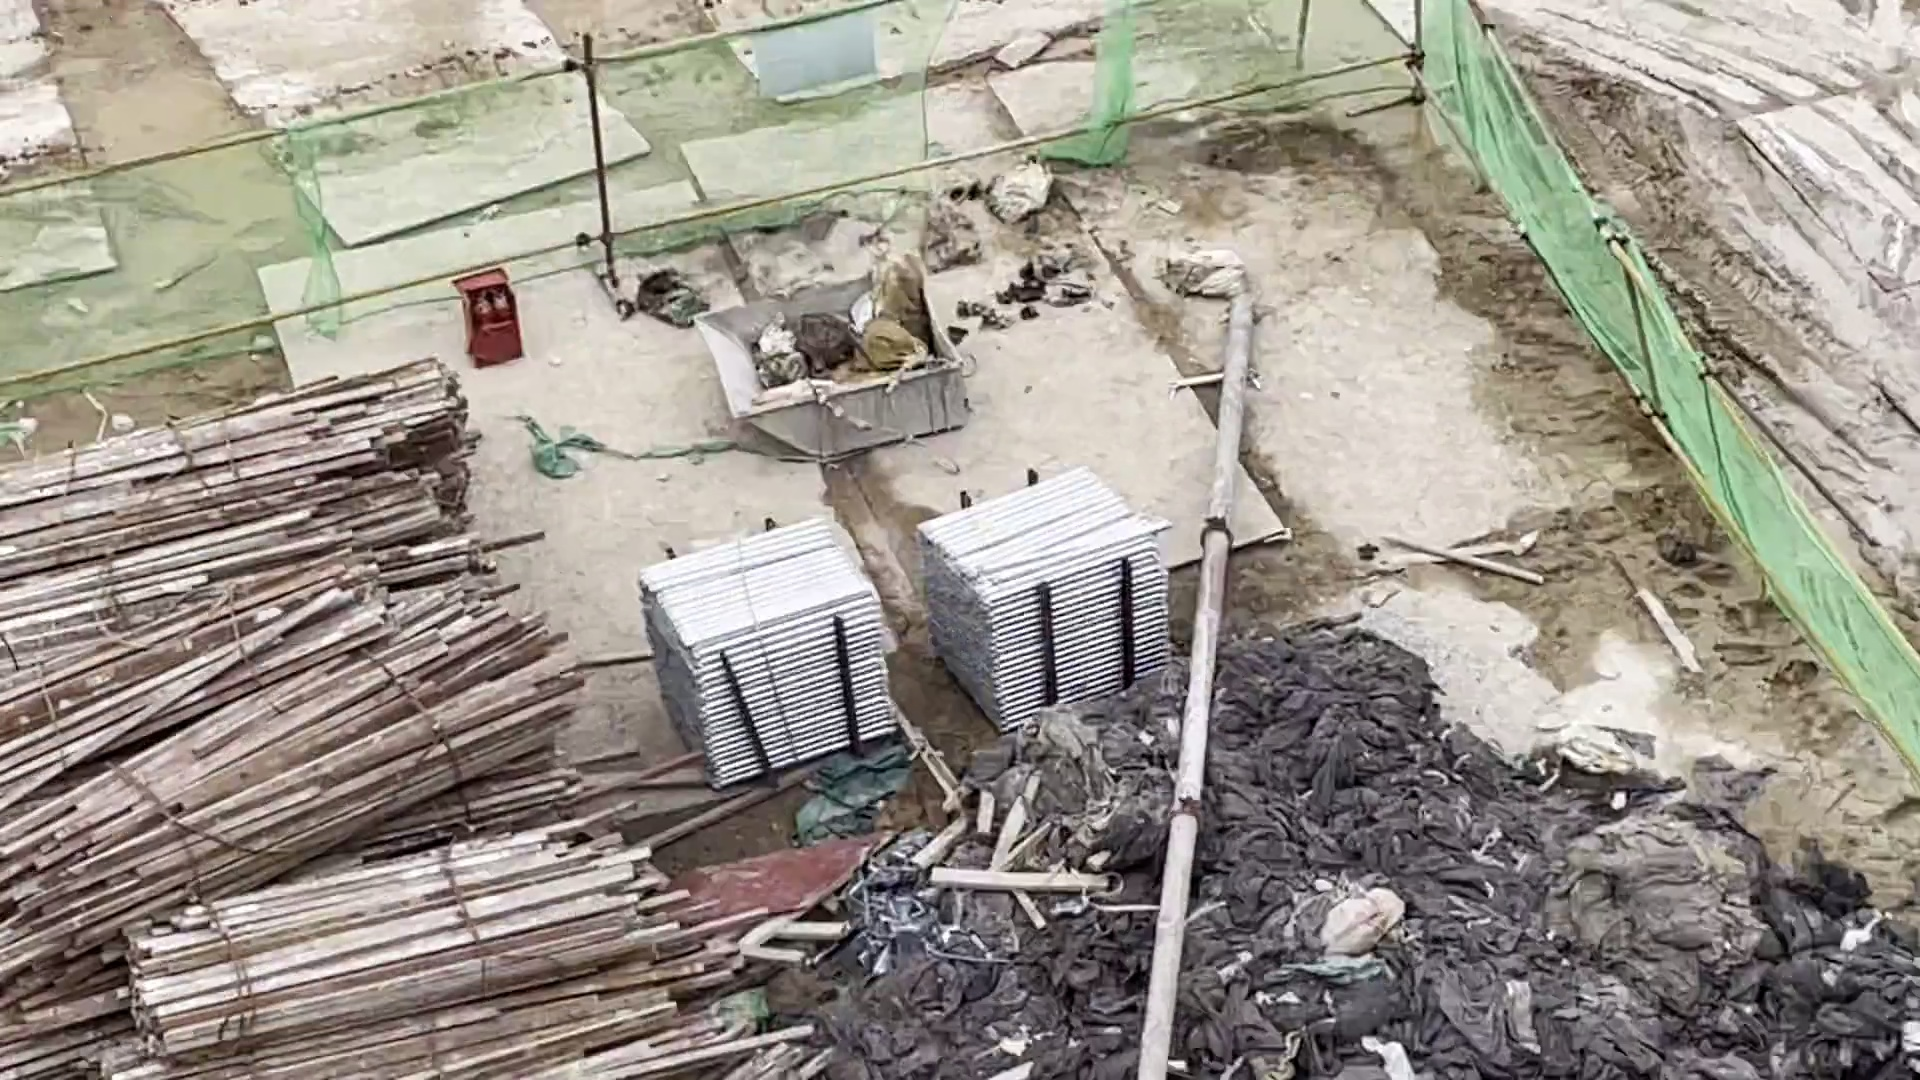hopper: (684, 266, 1034, 462)
scaffold: (626, 462, 1179, 791)
wood: (3, 351, 686, 1080)
